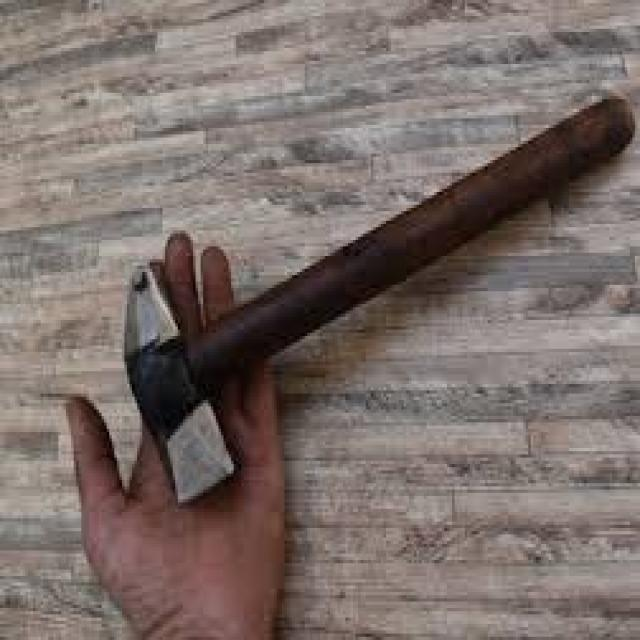hammer: (122, 85, 638, 520)
